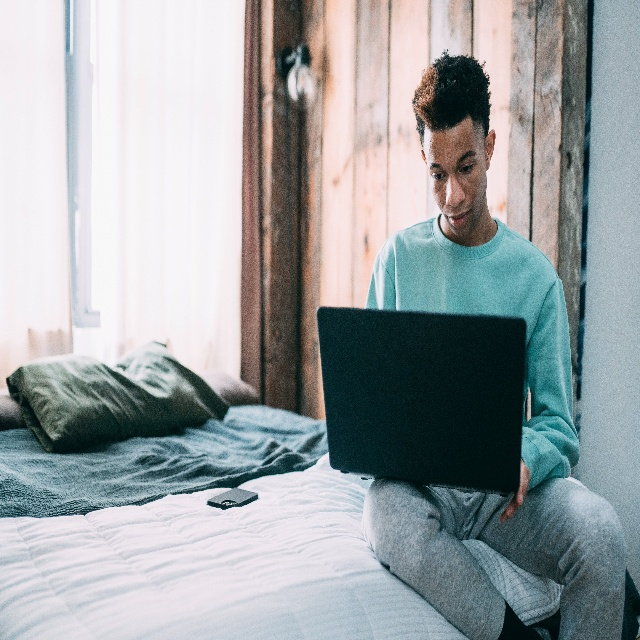Sin_guantes: (500, 460, 530, 525)
